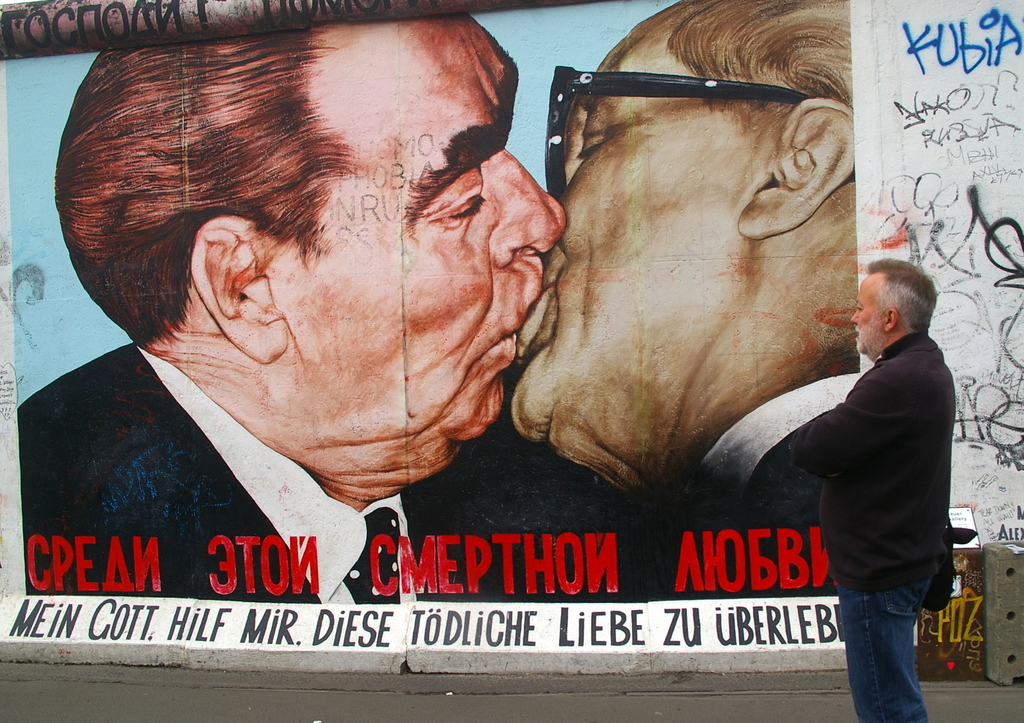Human-face: (277, 12, 565, 440), (503, 22, 769, 480), (849, 279, 884, 353)
